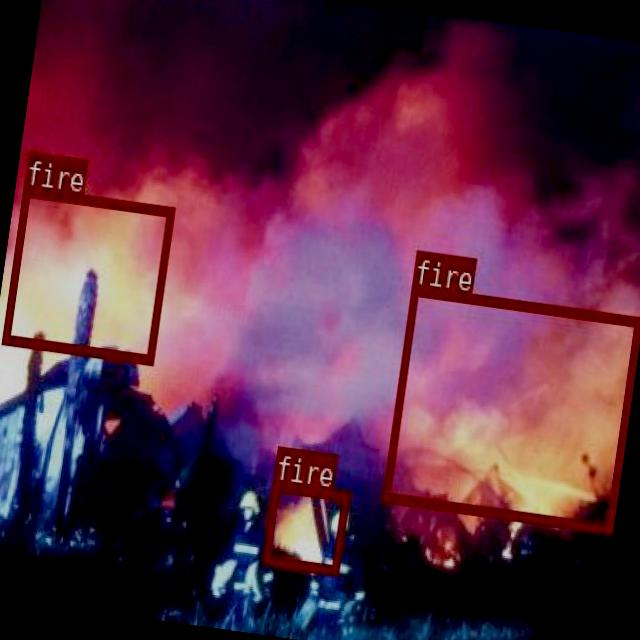fire: (381, 284, 640, 531), (1, 184, 174, 362), (260, 480, 348, 574)
